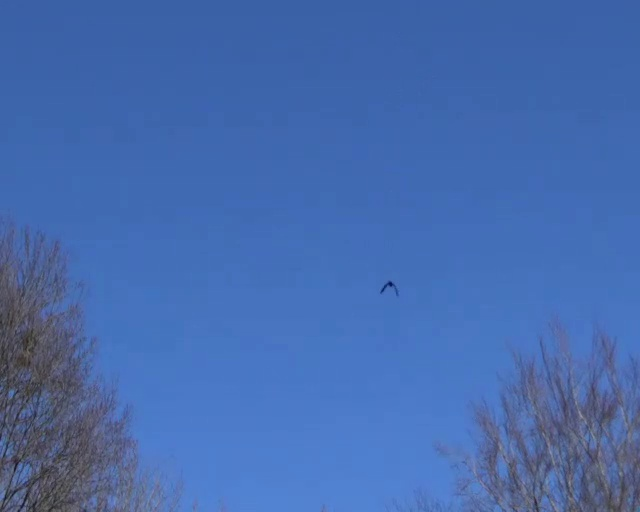BIRD: (380, 280, 399, 296)
